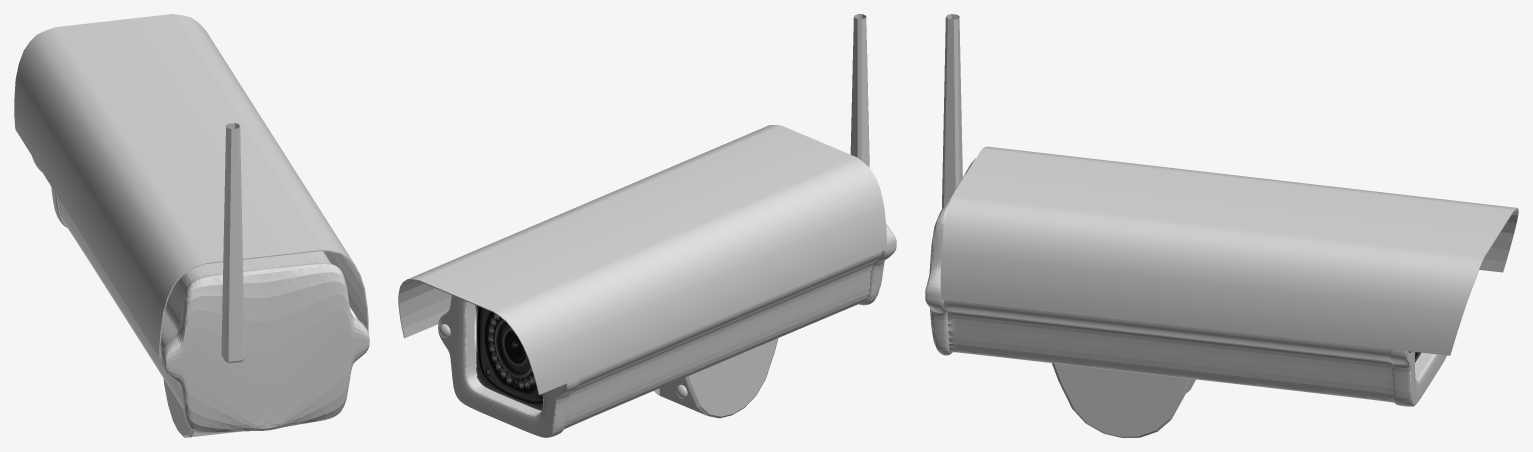
File: SecurityCam_Head.fbx
The picture shows the model from 3 angles, left to right: view 1: azimuth 30°, elevation 25°; view 2: azimuth 150°, elevation 25°; view 3: azimuth 270°, elevation 25°; orthographic projection. The views are drawn at different scales.
Parts seen in each view (by area): view 1: SecurityCamera_Team3_Sanchez_SecuruityCameraLens_0; view 2: SecurityCamera_Team3_Sanchez_SecuruityCameraLens_0; view 3: SecurityCamera_Team3_Sanchez_SecuruityCameraLens_0.
Part boxes in pixels (box(x1,y1,x2,y2)): SecurityCamera_Team3_Sanchez_SecuruityCameraLens_0: box(14, 14, 369, 437); SecurityCamera_Team3_Sanchez_SecuruityCameraLens_0: box(398, 14, 896, 437); SecurityCamera_Team3_Sanchez_SecuruityCameraLens_0: box(925, 14, 1518, 437).
Bounding box in the file's own units: 29.01 × 34.92 × 50.85.
